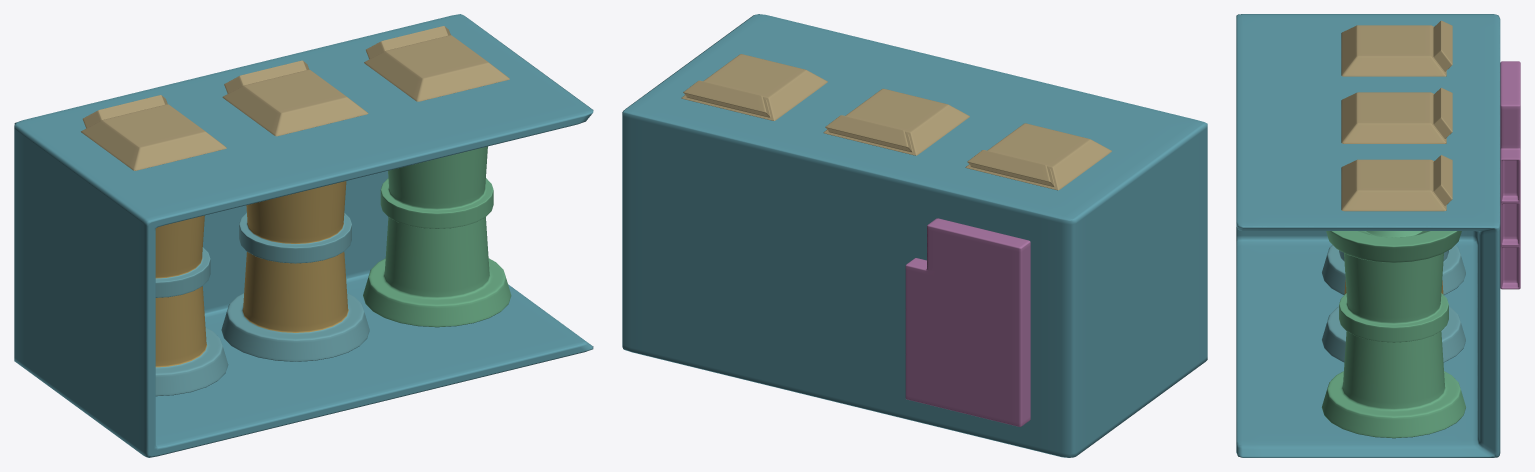
File: BatterySource.fbx
The picture shows the model from 3 angles, left to right: view 1: azimuth 30°, elevation 25°; view 2: azimuth 150°, elevation 25°; view 3: azimuth 270°, elevation 25°; orthographic projection. The views are drawn at different scales.
Parts seen in each view (by area): view 1: BatteryCase, Battery_SingleMaterial, Battery_High1, Battery_High, PackHead1, PackHead, PackHead2; view 2: BatteryCase, PowerStuff, PackHead1, PackHead, PackHead2; view 3: BatteryCase, Battery_SingleMaterial, PackHead2, PackHead, PackHead1, PowerStuff, Battery_High1, Battery_High.
Boxes of the visible parts, x1,y1,x2,y2 form: BatteryCase: (14,14,593,457); Battery_SingleMaterial: (363,146,511,327); Battery_High1: (221,181,369,361); Battery_High: (155,215,228,396); PackHead1: (222,60,368,136); PackHead: (81,95,226,170); PackHead2: (364,26,509,101); BatteryCase: (622,14,1207,457); PowerStuff: (905,218,1030,426); PackHead1: (823,88,969,155); PackHead: (965,123,1111,190); PackHead2: (681,54,827,120); BatteryCase: (1236,14,1500,457); Battery_SingleMaterial: (1321,231,1465,438); PackHead2: (1341,155,1452,211); PackHead: (1341,20,1452,76); PackHead1: (1341,87,1452,143); PowerStuff: (1500,61,1520,289); Battery_High1: (1322,250,1465,362); Battery_High: (1322,245,1465,294).
Size of the model in its own units: 4.77 by 2.62 by 2.68.
